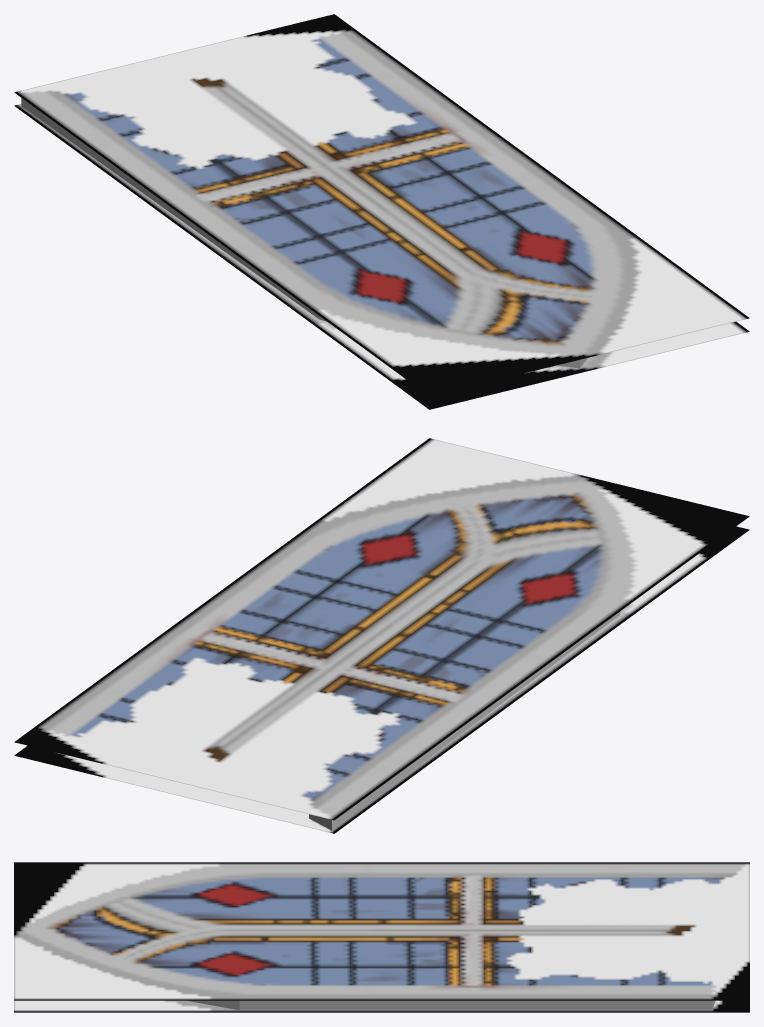
The model's file is pz_native_location_community_church_small_01_247_frame.obj.
3 renders of one model, top to bottom at view 1: azimuth 30°, elevation 25°; view 2: azimuth 150°, elevation 25°; view 3: azimuth 270°, elevation 25°, orthographic. The views are drawn at different scales.
Parts seen in each view (by area): view 1: pz_native_location_community_church_small_01_247_frame; view 2: pz_native_location_community_church_small_01_247_frame; view 3: pz_native_location_community_church_small_01_247_frame.
Part boxes in pixels (x1,y1,x2,y2): pz_native_location_community_church_small_01_247_frame: (14,14,749,409); pz_native_location_community_church_small_01_247_frame: (14,438,749,833); pz_native_location_community_church_small_01_247_frame: (14,862,749,1012).
Size of the model in its own units: 1 by 0.04 by 2.25.
1 material, 1 textured.
